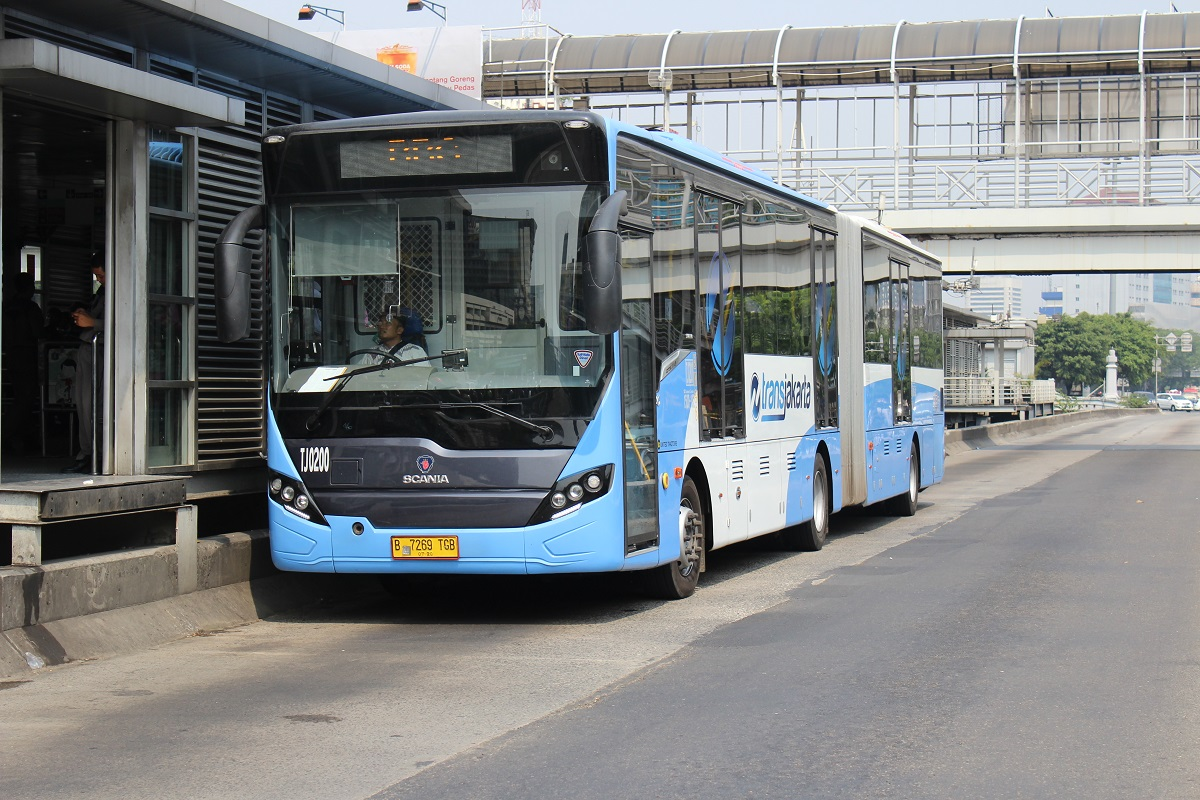plate: (388, 531, 455, 563)
